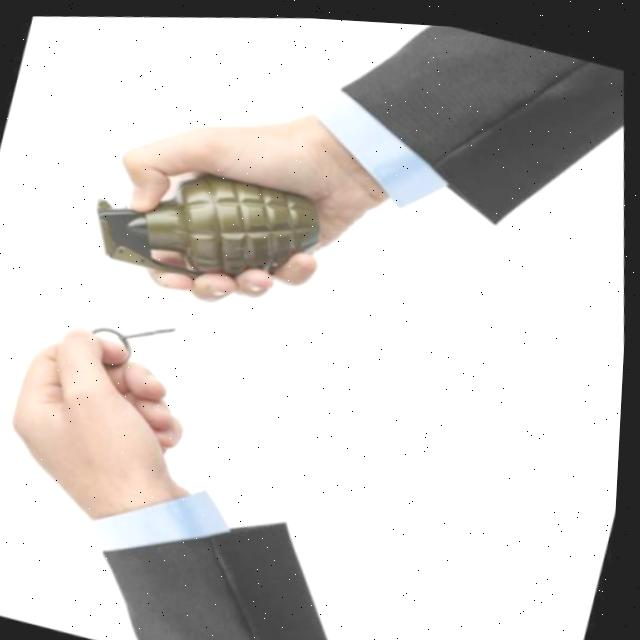grenade: (69, 123, 337, 339)
